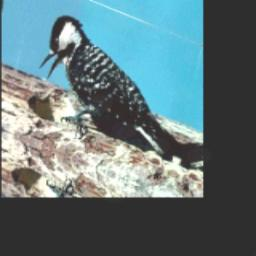Woodpecker: (24, 1, 198, 178)
